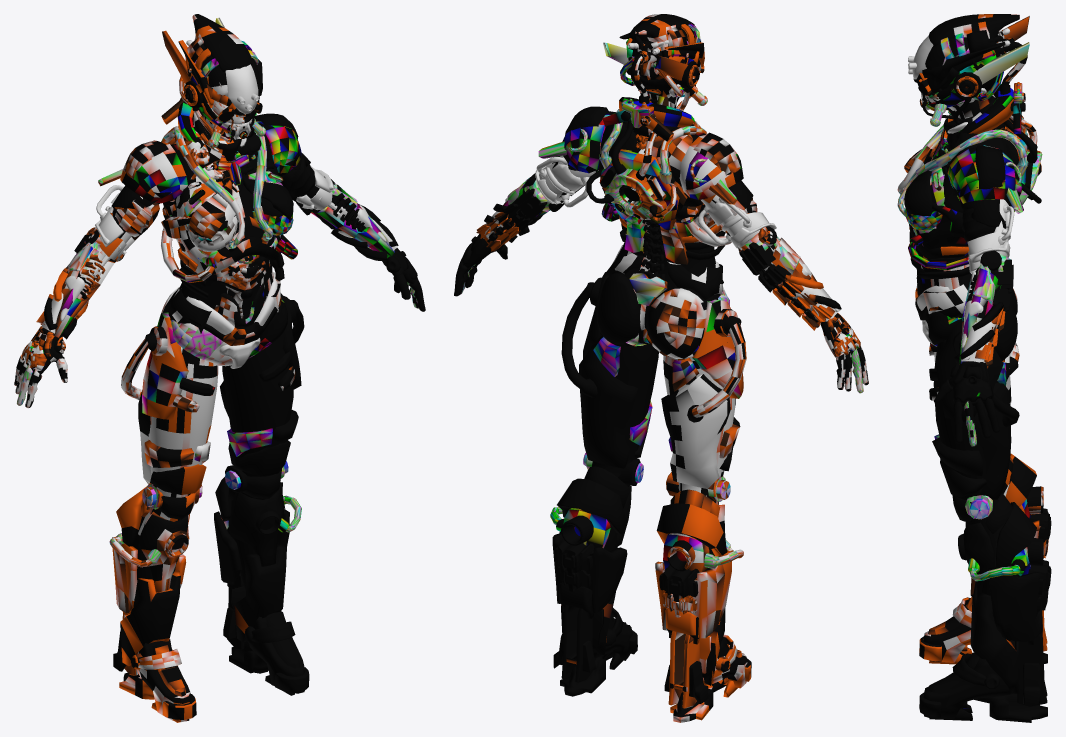
Rendered from BPM_EnnemiFinalAllModuleMerged_low.FBX.
3 renders of one model, left to right at view 1: azimuth 30°, elevation 25°; view 2: azimuth 150°, elevation 25°; view 3: azimuth 270°, elevation 25°, orthographic.
Parts seen in each view (by area): view 1: Legs_low, Body_02_low, Body_01_low, Arm_02_low, Foot_low, Arm_01_low, Tophead_02_low, Hands_low, BottomHead_02_low, TopHead_01_low; view 2: Legs_low, Body_01_low, Arm_02_low, Arm_01_low, Foot_low, Hands_low, Tophead_02_low, BottomHead_02_low, Body_02_low, BottomHead_03_low, BackHead_low; view 3: Legs_low, Body_01_low, Foot_low, Arm_02_low, Arm_01_low, Body_02_low, Tophead_02_low, Hands_low, BottomHead_02_low, TopHead_01_low, BottomHead_03_low, BottomHead_01_low (+1 smaller).
Part boxes in pixels (x1,y1,x2,y2): Legs_low: (109,293,304,675); Body_02_low: (161,127,293,368); Body_01_low: (158,97,297,333); Arm_02_low: (41,113,397,333); Foot_low: (119,611,309,722); Arm_01_low: (36,152,398,339); Tophead_02_low: (178,14,262,130); Hands_low: (14,248,425,408); BottomHead_02_low: (162,17,265,147); TopHead_01_low: (188,55,260,124); Legs_low: (550,272,746,708); Body_01_low: (586,54,731,358); Arm_02_low: (483,106,840,324); Arm_01_low: (476,129,841,330); Foot_low: (560,608,751,722); Hands_low: (454,233,868,393); Tophead_02_low: (619,14,704,73); BottomHead_02_low: (603,42,707,110); Body_02_low: (598,121,729,351); BottomHead_03_low: (620,45,695,109); BackHead_low: (627,41,662,80); Legs_low: (929,321,1051,706); Body_01_low: (897,41,1042,360); Foot_low: (919,597,1047,722); Arm_02_low: (947,145,1022,362); Arm_01_low: (953,115,1023,368); Body_02_low: (905,114,1016,346); Tophead_02_low: (908,14,1019,100); Hands_low: (934,361,999,446); BottomHead_02_low: (919,16,1029,126); TopHead_01_low: (913,37,984,95); BottomHead_03_low: (921,54,1003,120); BottomHead_01_low: (921,63,996,119).
Bounding box in the file's own units: 50.37 × 79.08 × 16.4.
